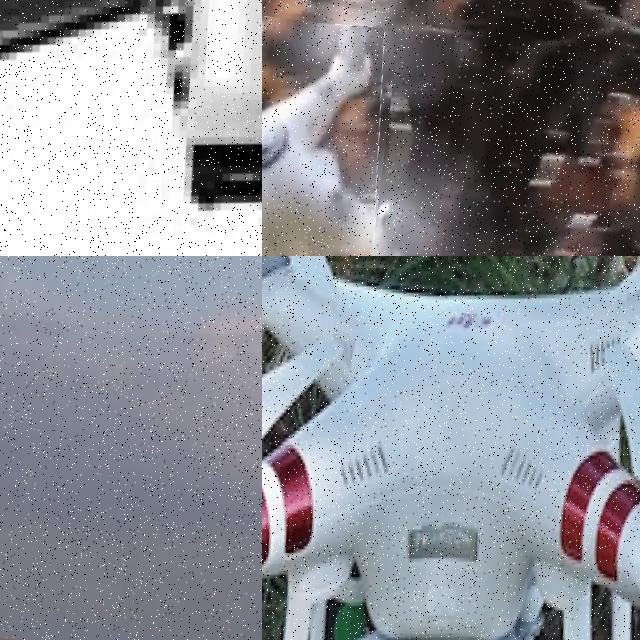0: (262, 256, 640, 640), (262, 7, 398, 256)
drone: (0, 0, 262, 256)
